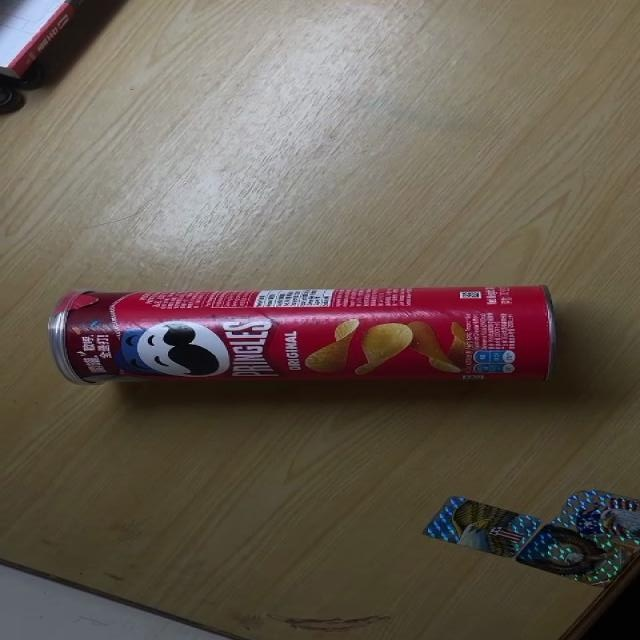Pringles: (43, 284, 560, 384)
